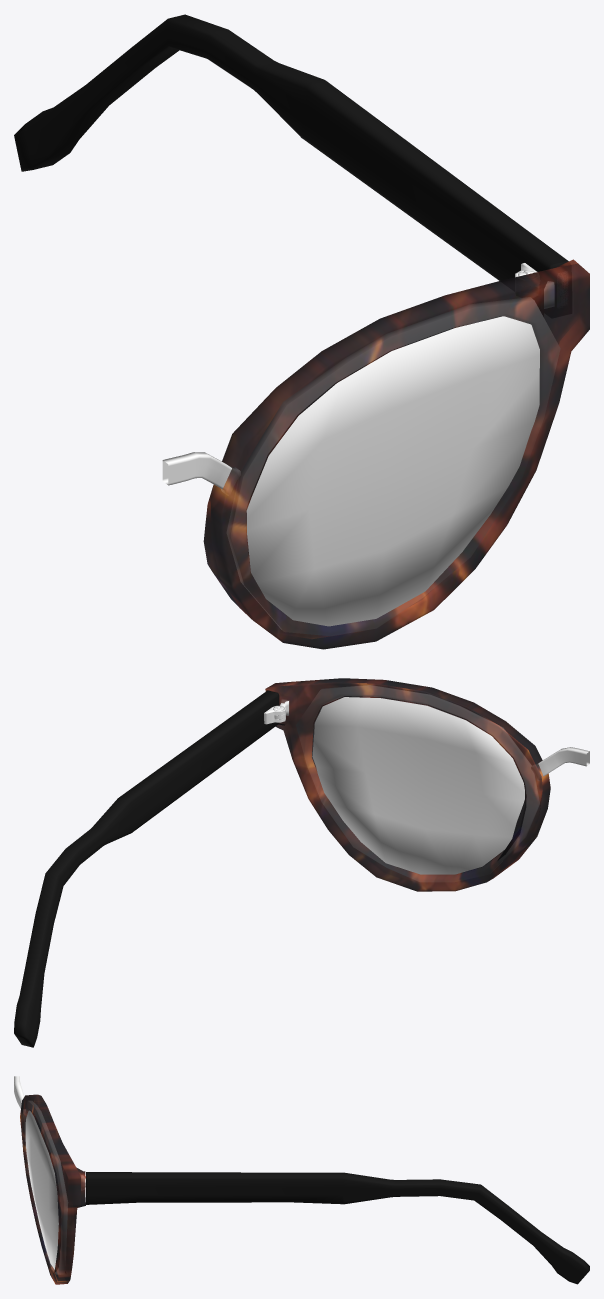
The picture shows the model from 3 angles, top to bottom: view 1: azimuth 30°, elevation 25°; view 2: azimuth 150°, elevation 25°; view 3: azimuth 270°, elevation 25°; orthographic projection. The views are drawn at different scales.
Parts seen in each view (by area): view 1: lens, Front, temple, Bridge; view 2: lens, Front, temple, Bridge; view 3: temple, Front, lens.
Boxes of the visible parts, x1=… form: lens: x1=227, y1=297, x2=559, y2=635; Front: x1=203, y1=259, x2=589, y2=649; temple: x1=14, y1=14, x2=568, y2=280; Bridge: x1=162, y1=452, x2=240, y2=494; lens: x1=296, y1=685, x2=539, y2=881; Front: x1=265, y1=678, x2=550, y2=891; temple: x1=14, y1=690, x2=279, y2=1047; Bridge: x1=531, y1=747, x2=589, y2=780; temple: x1=86, y1=1172, x2=589, y2=1284; Front: x1=20, y1=1094, x2=85, y2=1284; lens: x1=24, y1=1101, x2=67, y2=1274.
Bounding box in the file's own units: 0.0703 × 0.0461 × 0.1411.
Materials: 4 (1 with a texture image).
